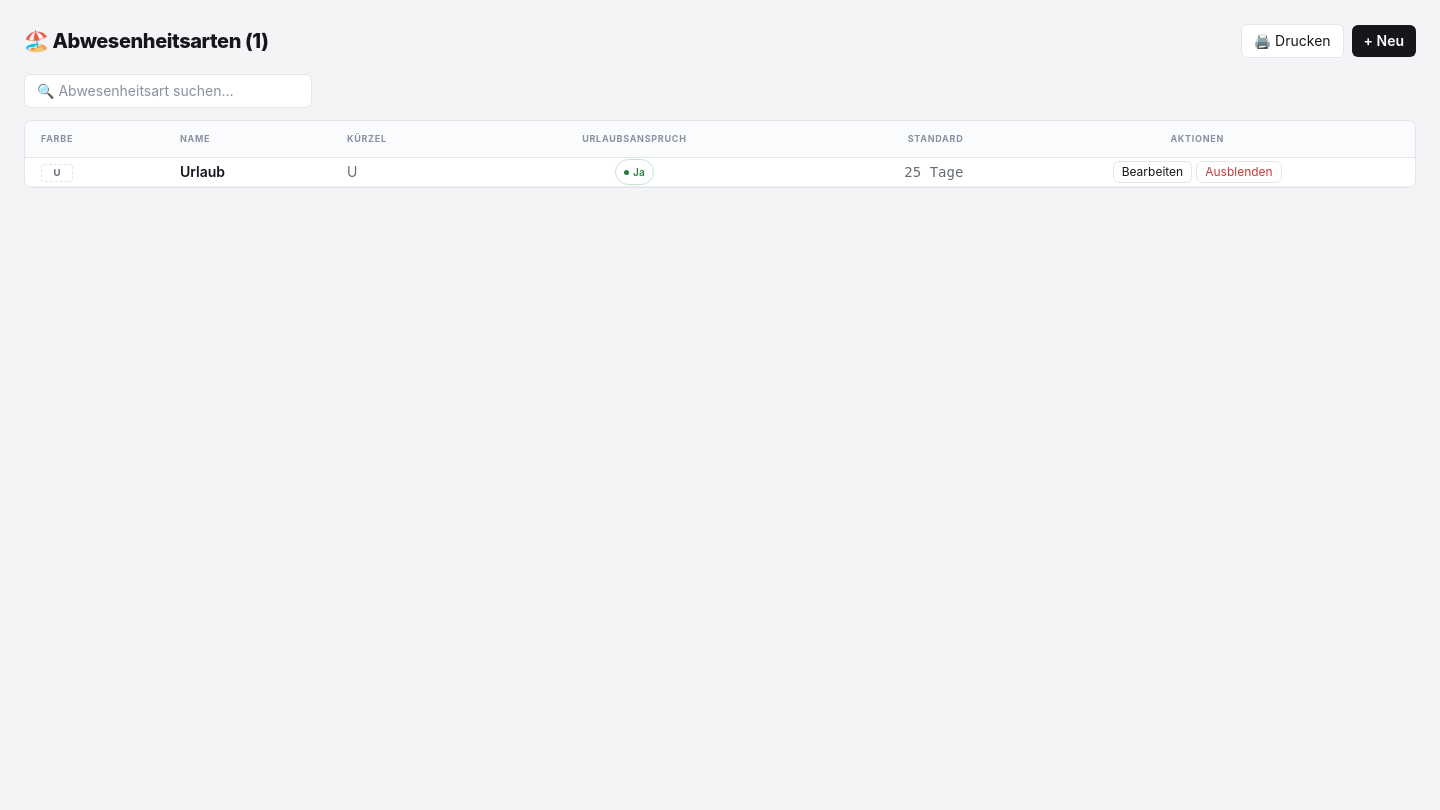
it: LeaveTypes page — Anrechnungs-Konfiguration (V-4) › validates CHARGEHRS when feste Stundenzahl selected
The image size is (1440, 810).
Expected: the text "Urlaub" is shown, [164,158,331,186]
Click the button "+ Neu": (1384, 41) [1352,25,1416,57]
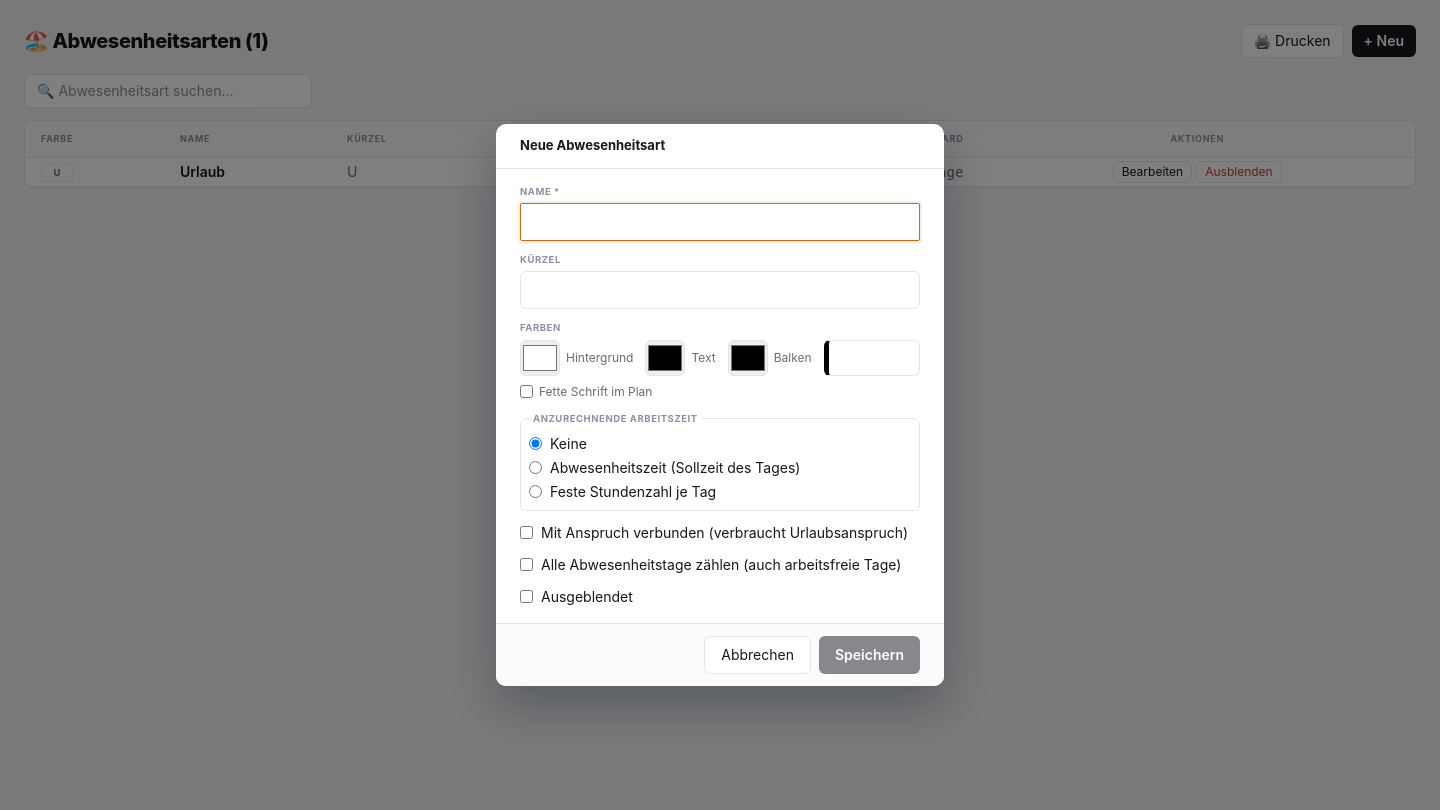
In the field below "Name *": (720, 222) [520,203,920,241], type "X"
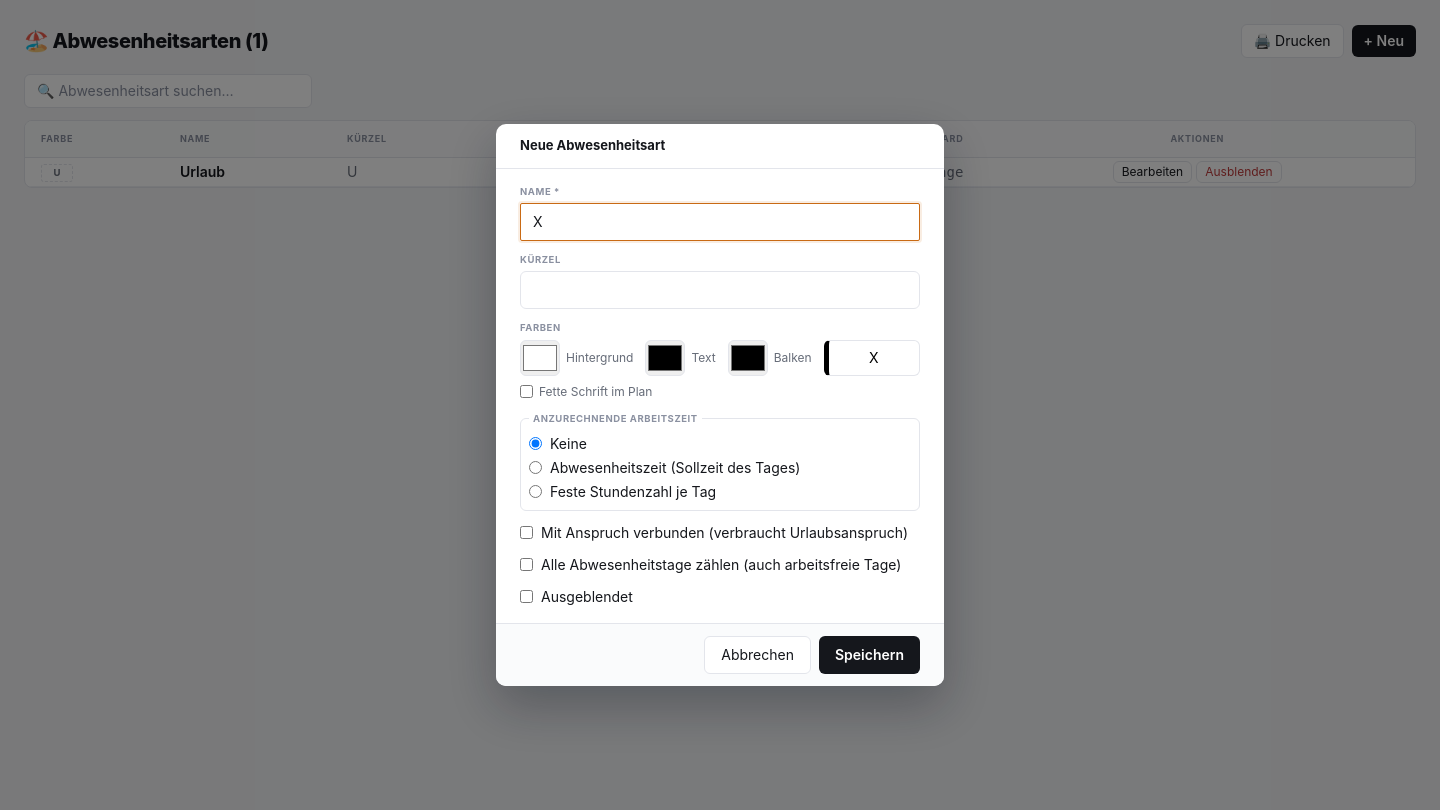
In the 2nd field: (720, 290) [520,271,920,309], type "X"
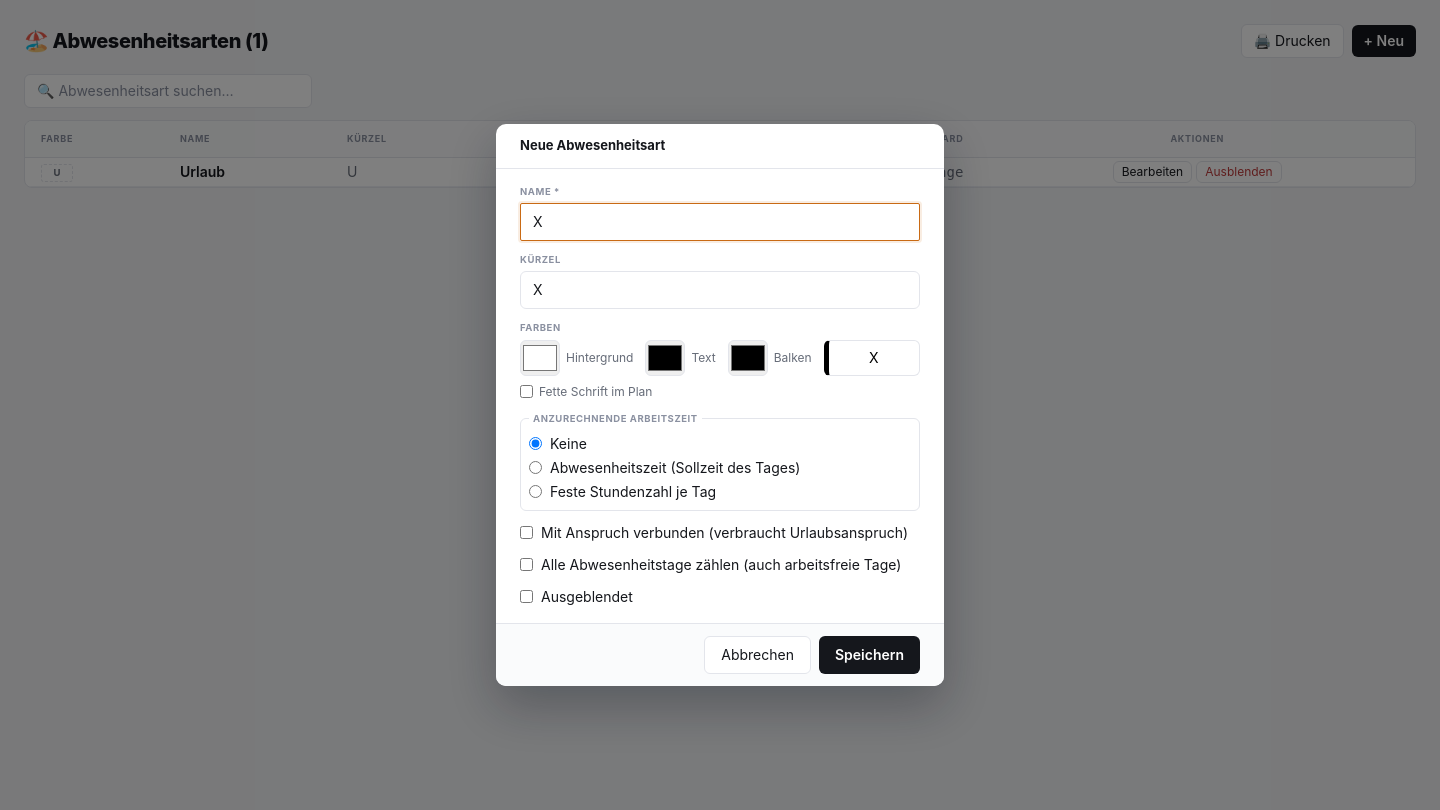
Click the radio button labelled "Feste Stundenzahl je Tag": (536, 492) [529,485,542,498]
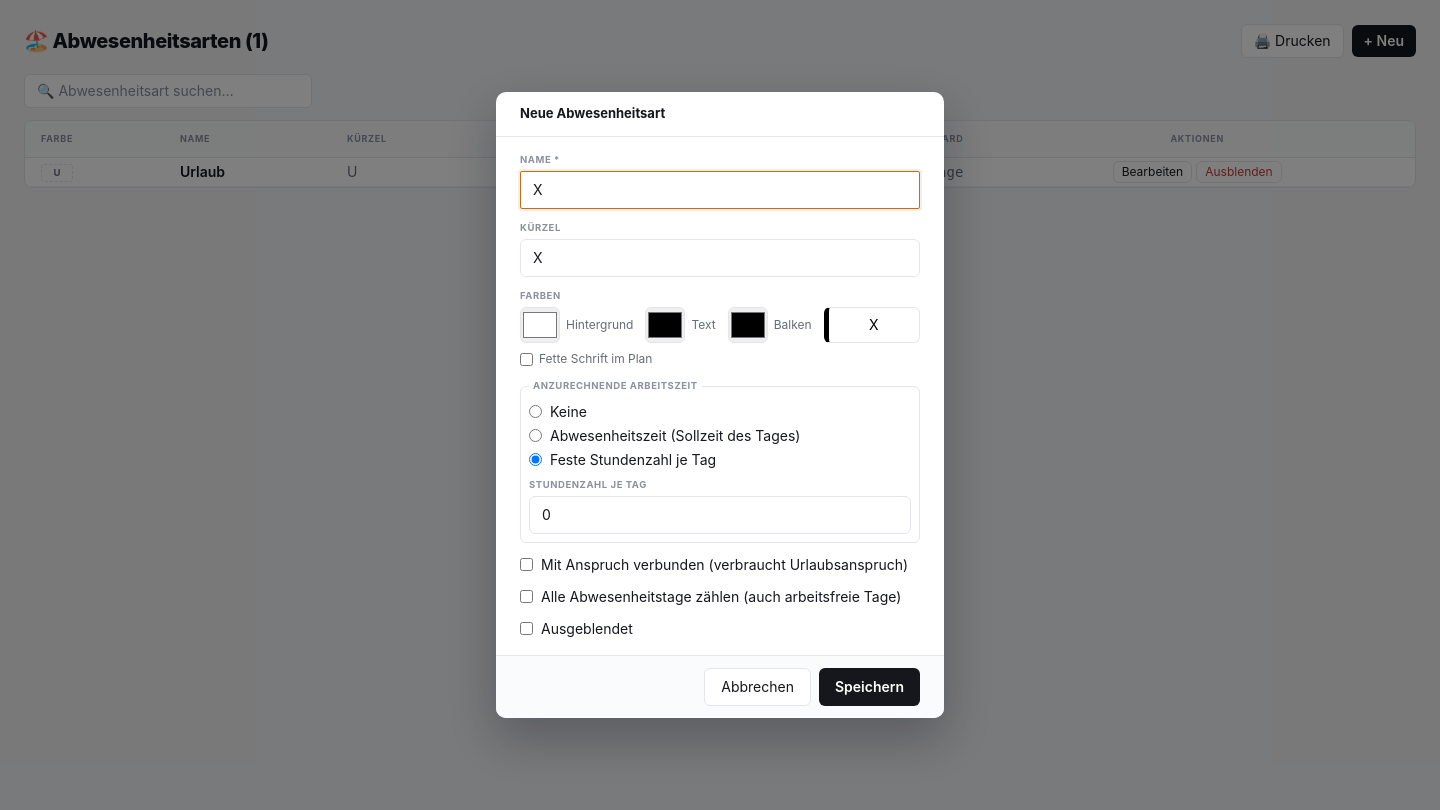
Click the button "Speichern": (869, 687) [819,668,920,706]
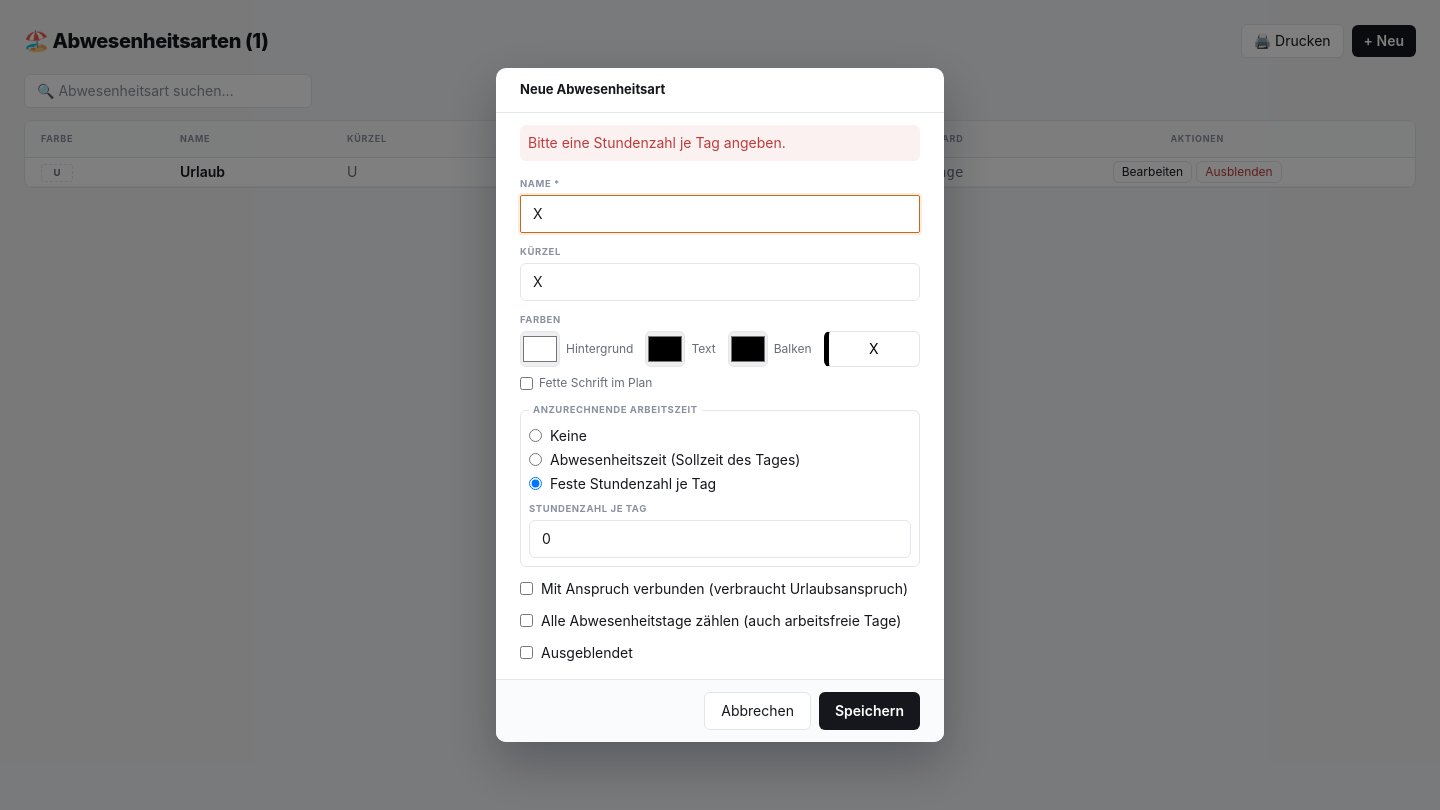
Now the text "Bitte eine Stundenzahl je Tag angeben." is shown, box [520,125,920,161]
